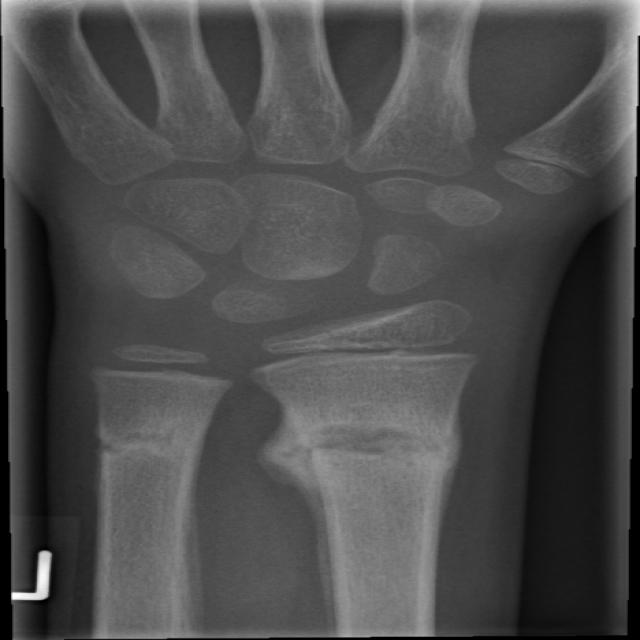radius fracture: (247, 391, 495, 543)
ulna fracture: (63, 395, 242, 547)
